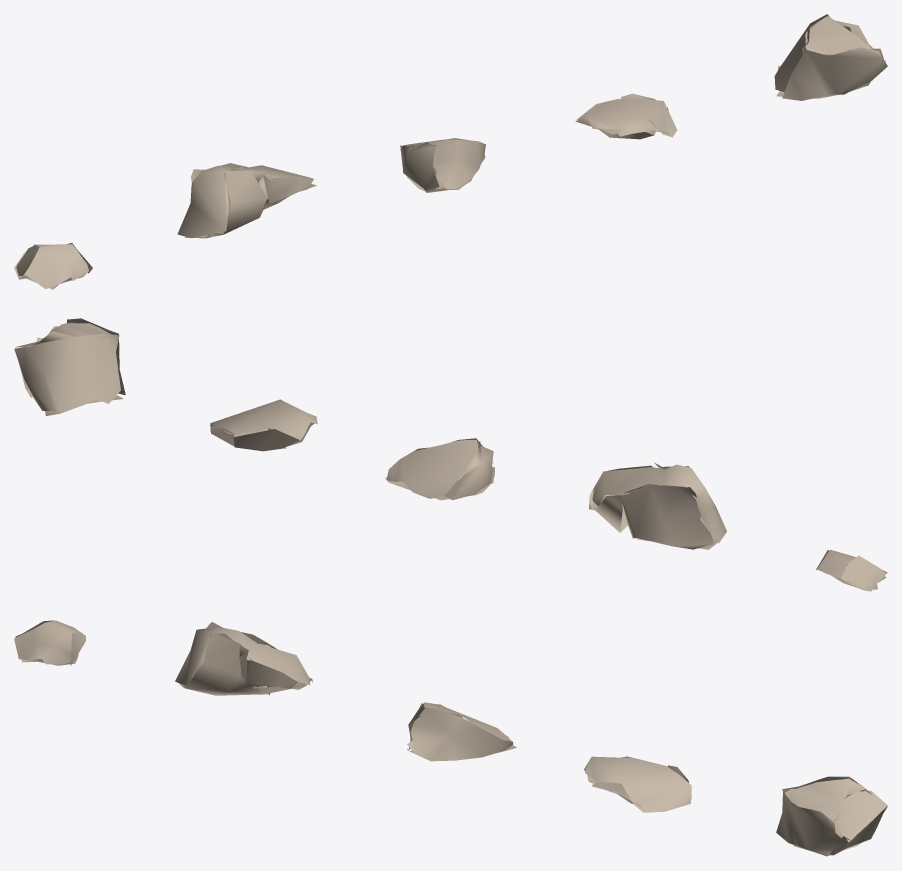
File: stones-lod1.glb
The picture shows the model from 3 angles, top to bottom: view 1: azimuth 30°, elevation 25°; view 2: azimuth 150°, elevation 25°; view 3: azimuth 330°, elevation 25°; orthographic projection.
Visible parts, largest first — view 1: stones.001; view 2: stones.001; view 3: stones.001.
Part boxes in pixels (x1,y1,x2,y2): stones.001: [14, 14, 887, 289]; stones.001: [14, 318, 887, 591]; stones.001: [14, 620, 887, 856].
Bounding box in the file's own units: 4.29 × 0.3522 × 0.4898.
